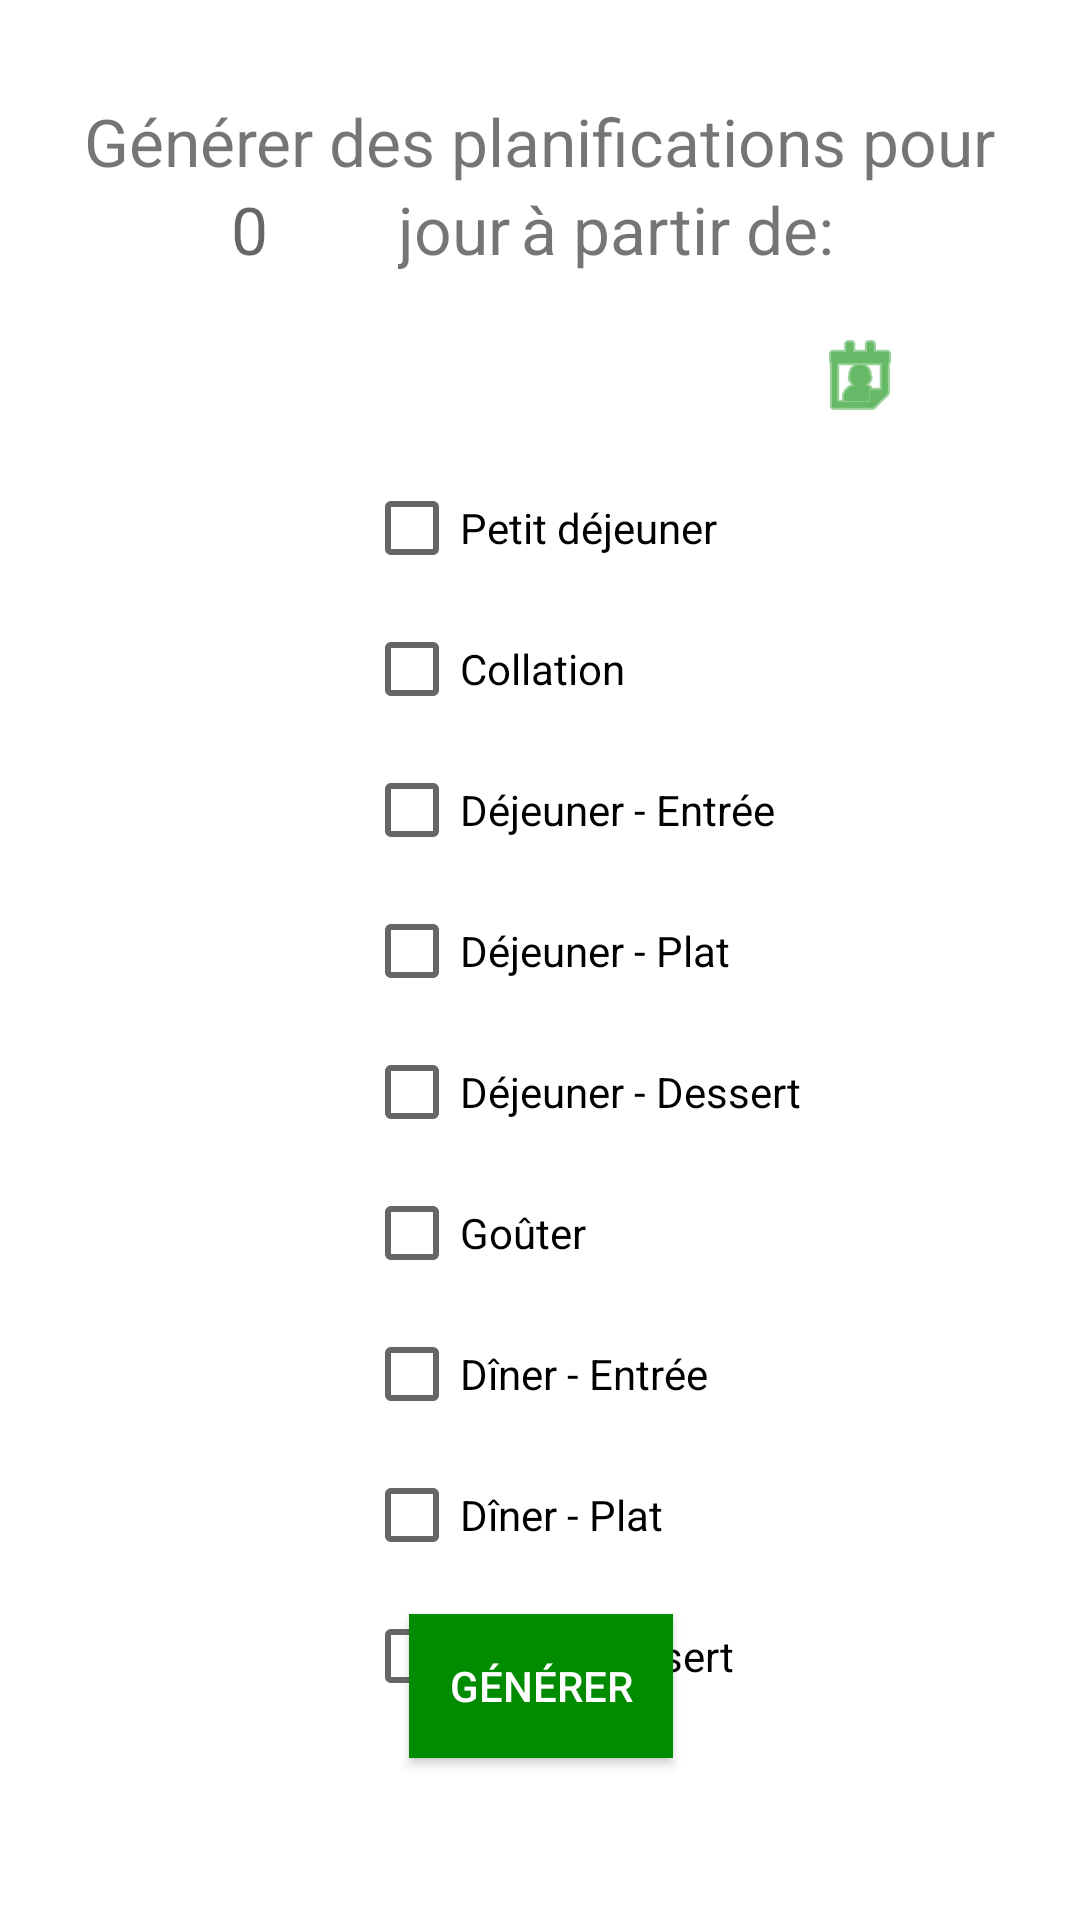

Point at icon controls on the screen. Image size 1080px x 1920px, points as [x,y].
calendar: [860,375]
